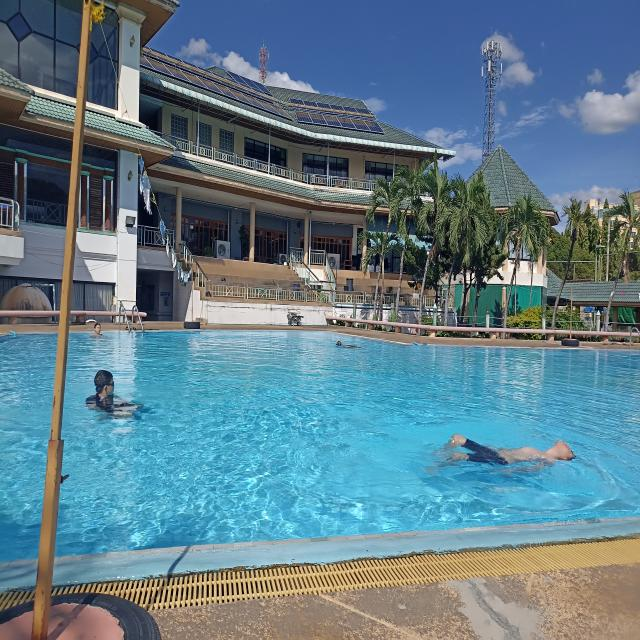Swimming: (435, 421, 596, 494), (86, 356, 136, 439), (88, 321, 108, 341)
